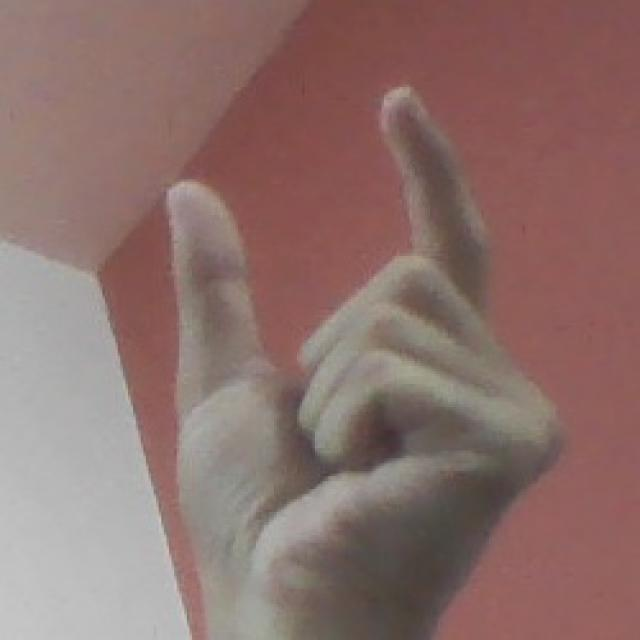Alphabet-U: (145, 68, 568, 624)
